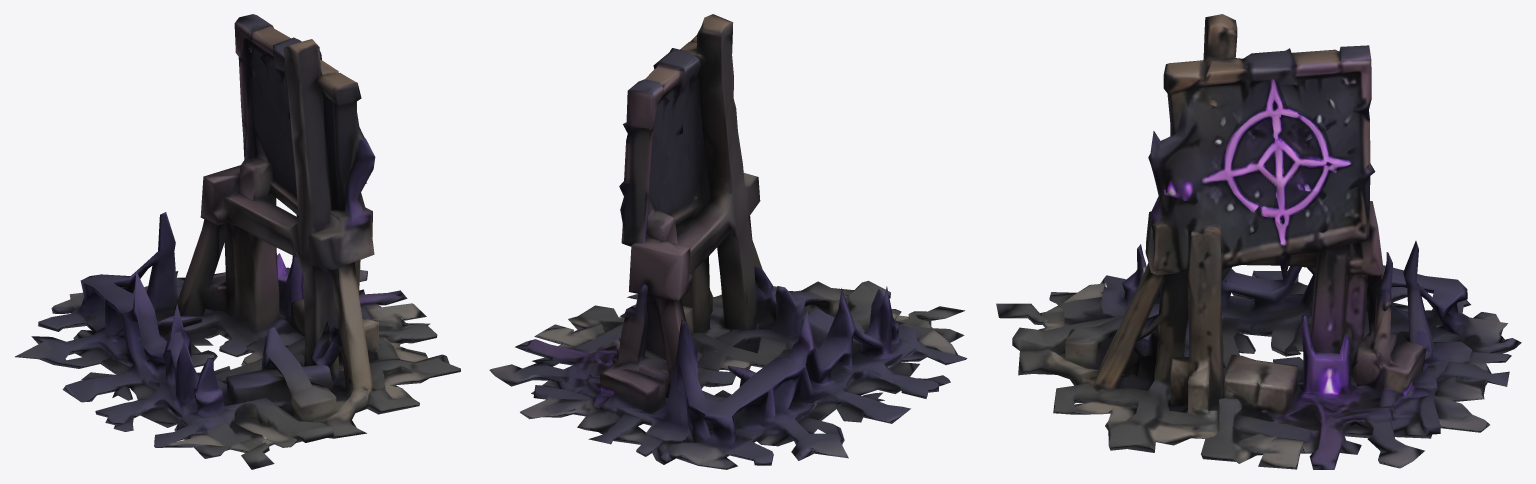
The model's file is SM_Environment_FantasyRuinsPortal_01.fbx.
The picture shows the model from 3 angles, left to right: view 1: azimuth 30°, elevation 25°; view 2: azimuth 150°, elevation 25°; view 3: azimuth 270°, elevation 25°; orthographic projection. The views are drawn at different scales.
Parts seen in each view (by area): view 1: SM_Environment_FantasyRuinsPortal_01; view 2: SM_Environment_FantasyRuinsPortal_01; view 3: SM_Environment_FantasyRuinsPortal_01.
Boxes of the visible parts, x1,y1,x2,y2 form: SM_Environment_FantasyRuinsPortal_01: (15, 14, 460, 469); SM_Environment_FantasyRuinsPortal_01: (489, 14, 967, 469); SM_Environment_FantasyRuinsPortal_01: (996, 14, 1521, 469).
Bounding box in the file's own units: 0.9034 × 0.7828 × 1.
Materials: 1 (1 with a texture image).
